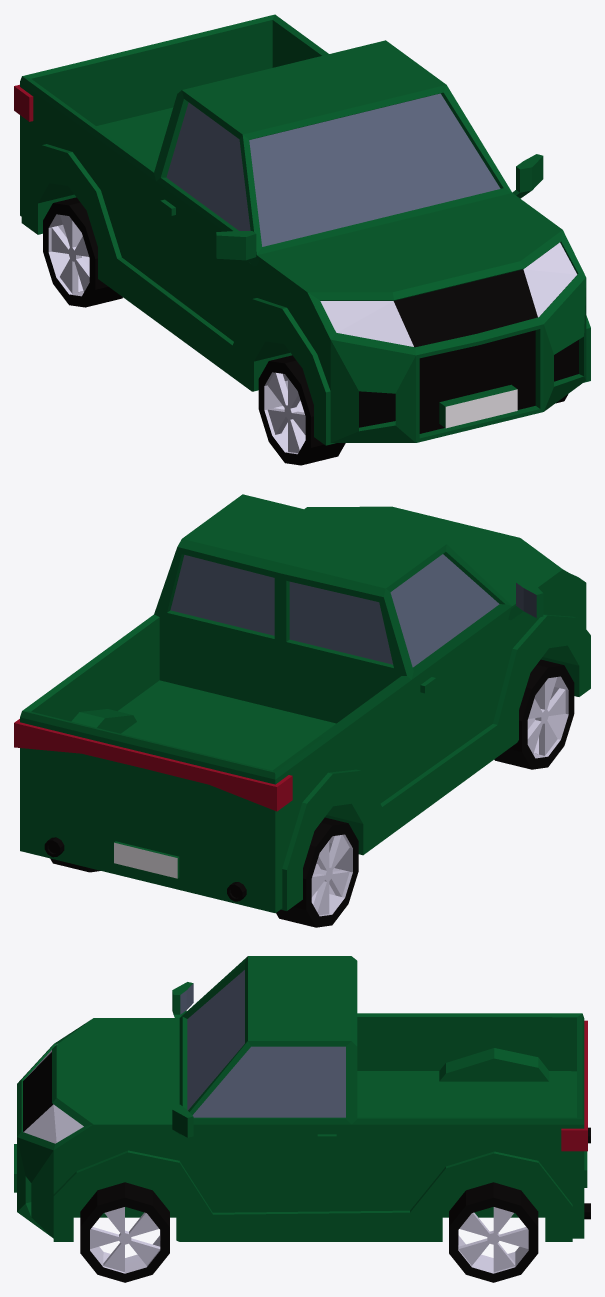
The model's file is mod-picape.gltf.
The picture shows the model from 3 angles, top to bottom: view 1: azimuth 30°, elevation 25°; view 2: azimuth 150°, elevation 25°; view 3: azimuth 270°, elevation 25°; orthographic projection. The views are drawn at different scales.
Parts seen in each view (by area): view 1: Pickup, Pickup wheel front left; view 2: Pickup, Pickup wheel front left; view 3: Pickup, Pickup wheel front left.
Boxes of the visible parts, x1,y1,x2,y2 form: Pickup: (14,14,590,445); Pickup wheel front left: (43,197,568,465); Pickup: (14,494,590,913); Pickup wheel front left: (50,659,574,927); Pickup: (14,956,590,1241); Pickup wheel front left: (80,1182,538,1282).
Size of the model in its own units: 2.48 by 1.95 by 4.43.
